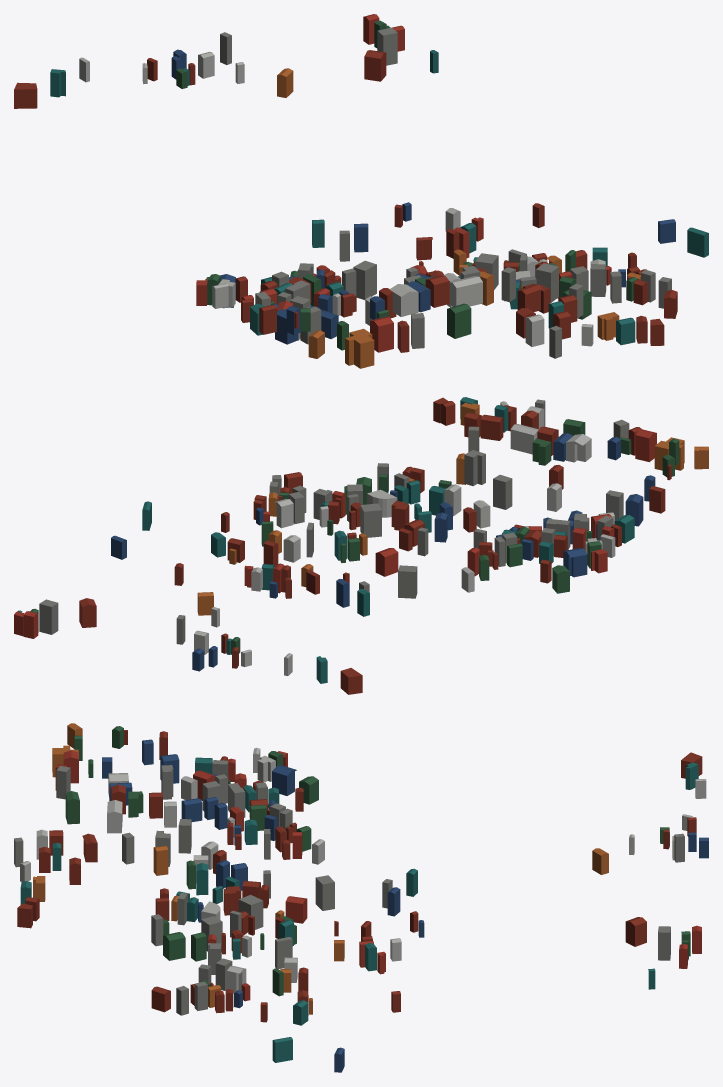
The model's file is near-16-54719-29744.28974af8.glb.
The picture shows the model from 3 angles, top to bottom: view 1: azimuth 30°, elevation 25°; view 2: azimuth 150°, elevation 25°; view 3: azimuth 270°, elevation 25°; orthographic projection. The views are drawn at different scales.
Bounding box in the file's own units: 449 × 117 × 579.
